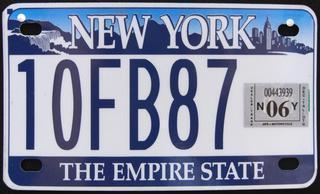placa de veiculo: (7, 5, 315, 192)
